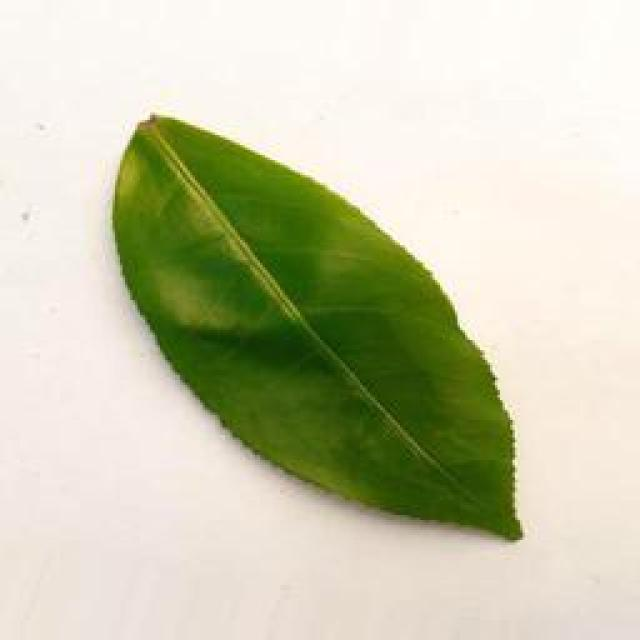Healthy: (110, 95, 532, 542)
